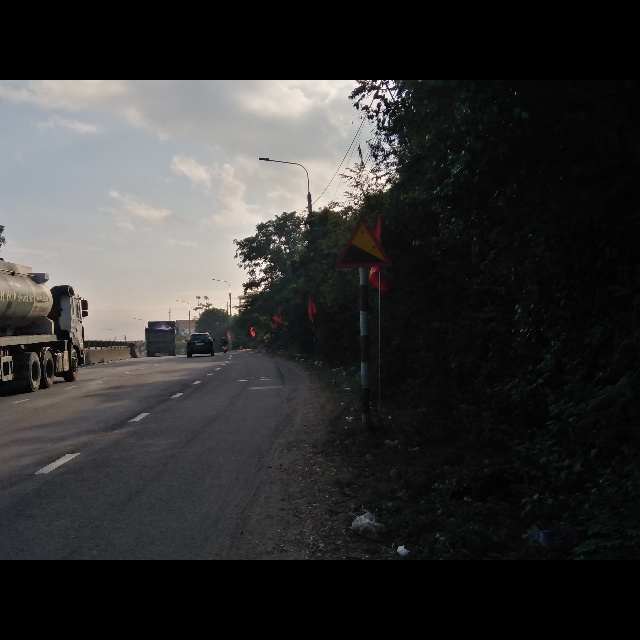Dốc lên nguy hiểm: (335, 211, 392, 271)
